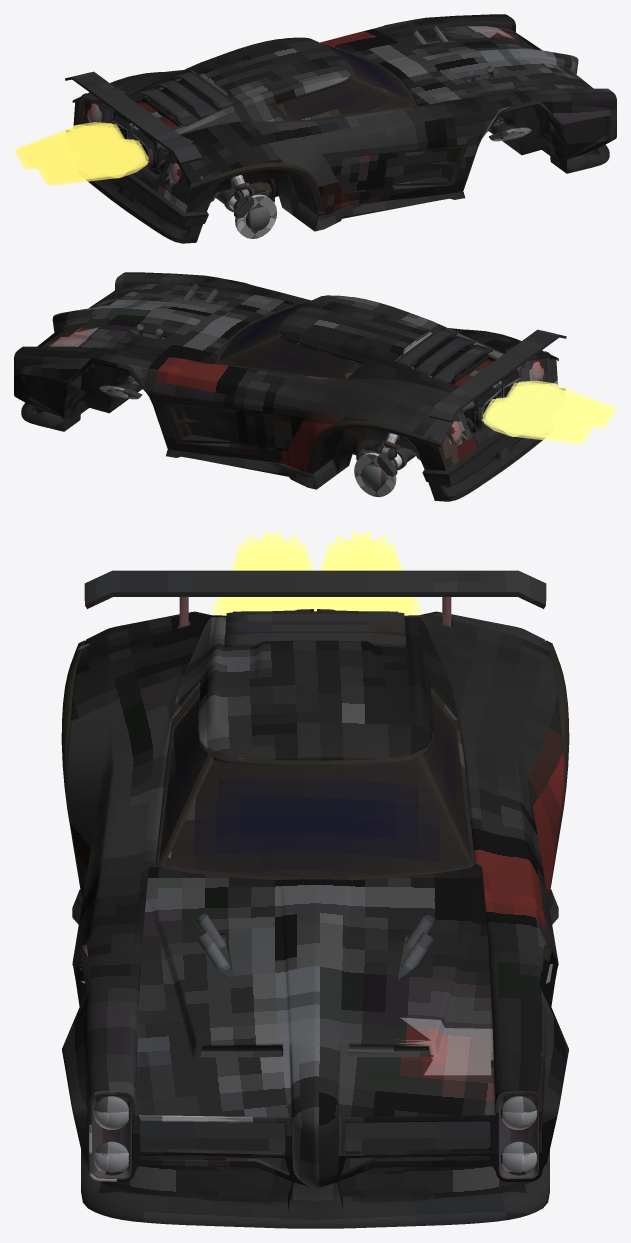
File: Dominus_PremiumSkin_ThreeWheel_Variant.glb
The picture shows the model from 3 angles, top to bottom: view 1: azimuth 30°, elevation 25°; view 2: azimuth 150°, elevation 25°; view 3: azimuth 270°, elevation 25°; orthographic projection. The views are drawn at different scales.
Visible parts, largest first — view 1: Dominus_PremiumSkin_ThreeWheel_Variant; view 2: Dominus_PremiumSkin_ThreeWheel_Variant; view 3: Dominus_PremiumSkin_ThreeWheel_Variant.
Boxes of the visible parts, box(x1,y1,x2,y2) form: Dominus_PremiumSkin_ThreeWheel_Variant: box(14, 14, 616, 243); Dominus_PremiumSkin_ThreeWheel_Variant: box(14, 272, 616, 501); Dominus_PremiumSkin_ThreeWheel_Variant: box(61, 530, 569, 1228).
Bounding box in the file's own units: 1.8 × 0.3947 × 0.7251.
10 materials, 9 textured.
